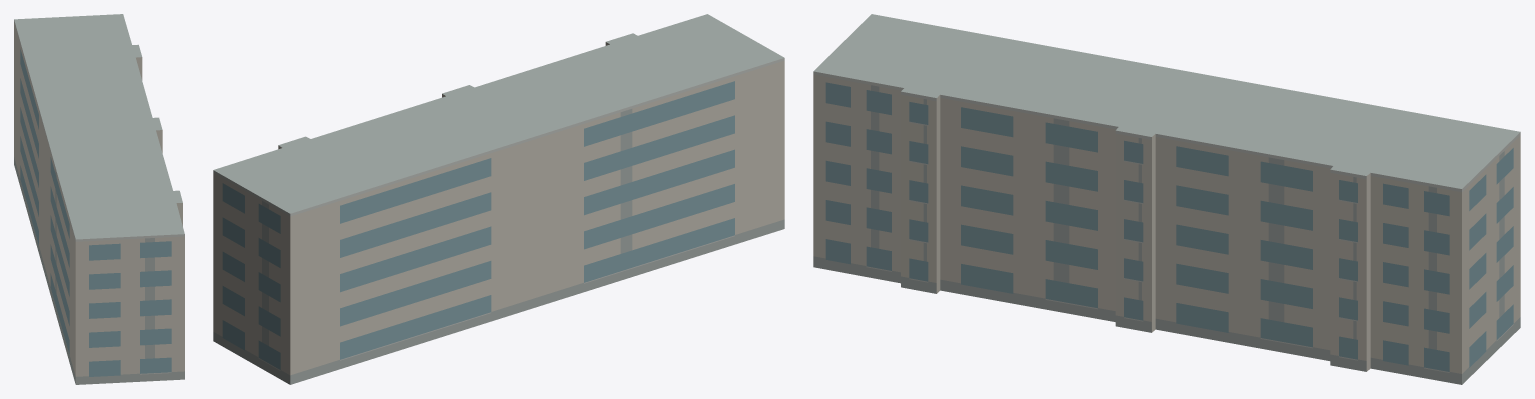
File: survey-upis-32561373.glb
3 renders of one model, left to right at view 1: azimuth 30°, elevation 25°; view 2: azimuth 150°, elevation 25°; view 3: azimuth 270°, elevation 25°, orthographic. The views are drawn at different scales.
Parts seen in each view (by area): view 1: survey-upis-32561373.tmp; view 2: survey-upis-32561373.tmp; view 3: survey-upis-32561373.tmp.
Part boxes in pixels (left/top/right/bottom): survey-upis-32561373.tmp: left=14, top=14, right=184, bottom=384; survey-upis-32561373.tmp: left=213, top=14, right=784, bottom=384; survey-upis-32561373.tmp: left=813, top=14, right=1520, bottom=384.
Bounding box in the file's own units: 29.26 × 15.25 × 49.95.
